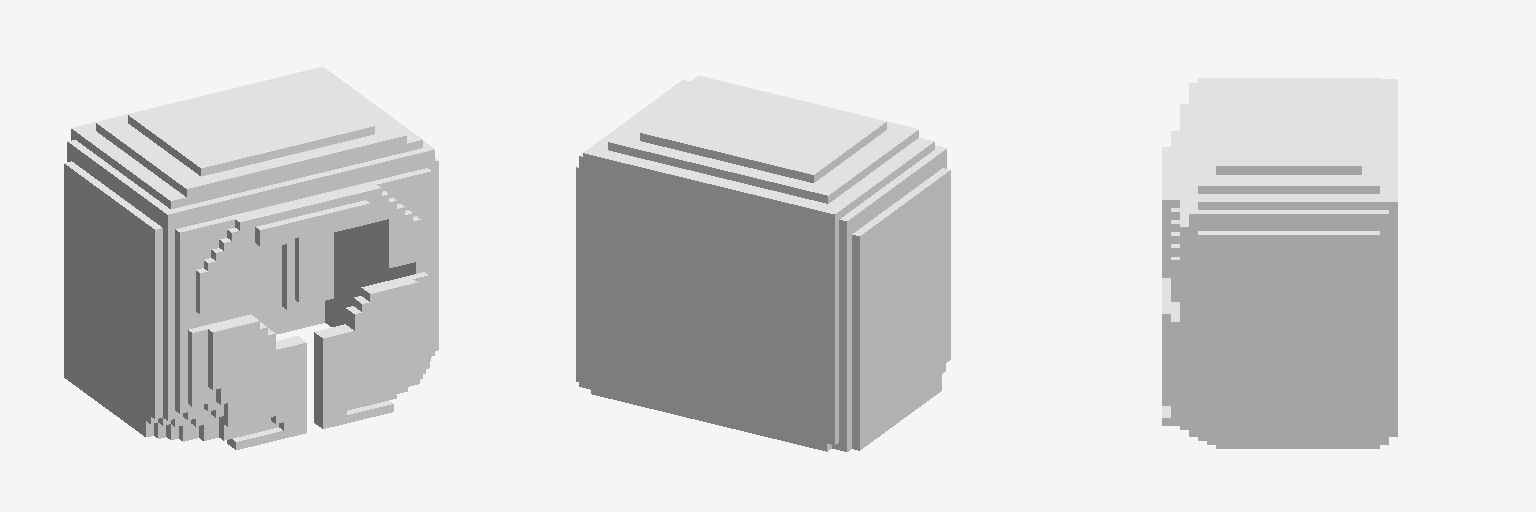
File: humanoid-76.obj
The picture shows the model from 3 angles: view 1: azimuth 30°, elevation 25°; view 2: azimuth 150°, elevation 25°; view 3: azimuth 270°, elevation 25°; orthographic projection.
Visible parts, largest first — view 1: humanoid-76; view 2: humanoid-76; view 3: humanoid-76.
Part boxes in pixels (x1,y1,x2,y2): humanoid-76: (64, 67, 438, 449); humanoid-76: (576, 76, 950, 451); humanoid-76: (1162, 78, 1397, 448).
Size of the model in its own units: 36 by 32 by 26.